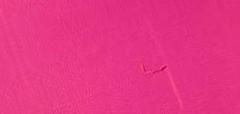snag: (138, 61, 173, 80)
